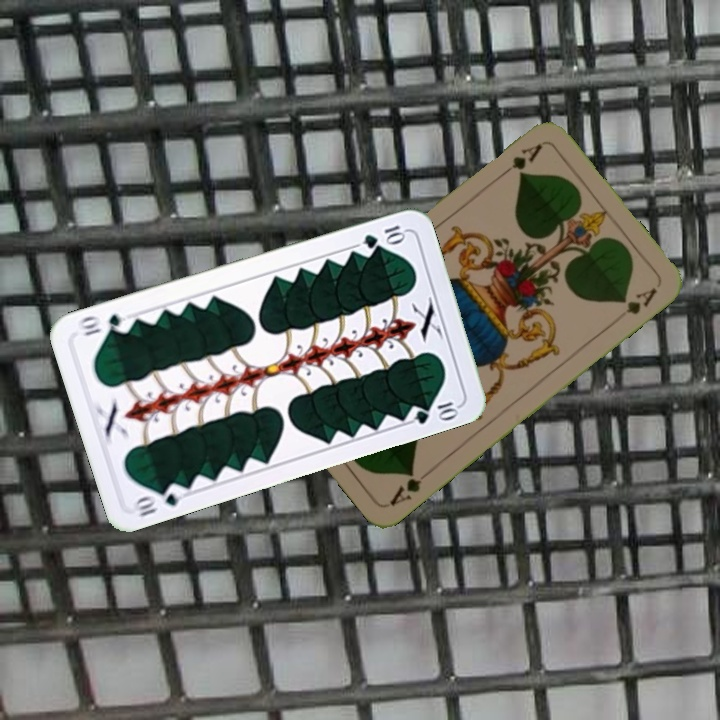G10: (129, 479, 188, 519), (359, 221, 408, 251)
GA: (385, 466, 435, 509), (495, 139, 545, 181)
